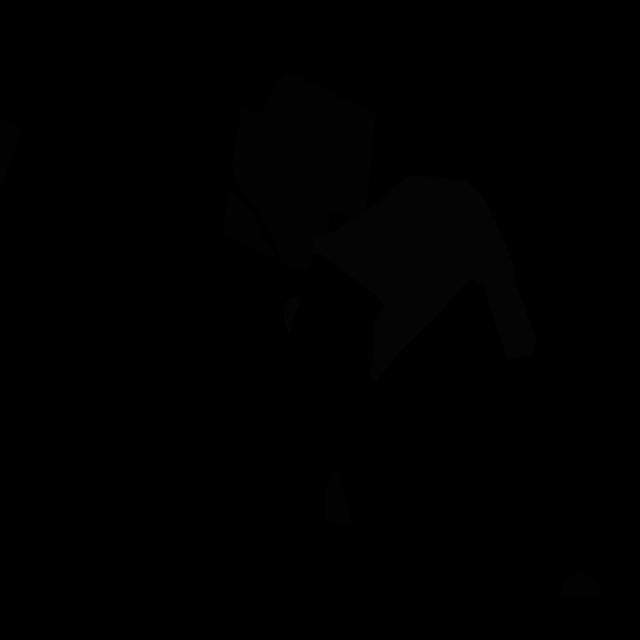cardboard: (232, 70, 376, 271), (224, 186, 275, 259), (324, 465, 352, 523), (561, 560, 606, 596), (0, 119, 21, 191)
soft_plastic: (312, 175, 536, 382), (284, 295, 301, 333)
